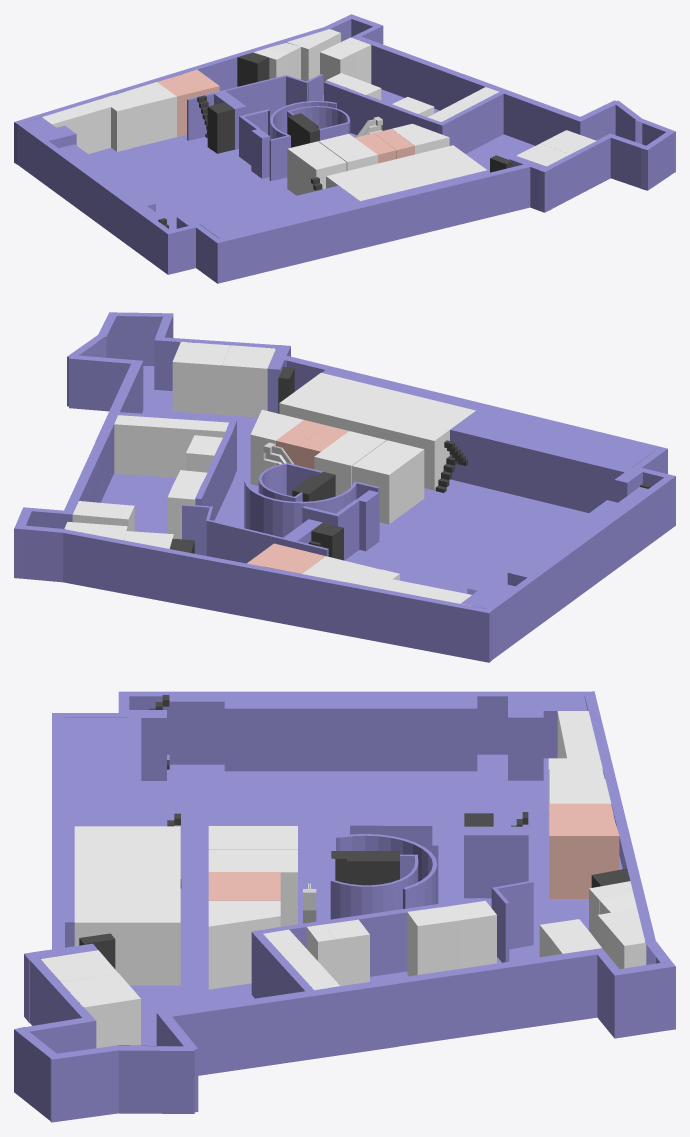
The picture shows the model from 3 angles, top to bottom: view 1: azimuth 30°, elevation 25°; view 2: azimuth 150°, elevation 25°; view 3: azimuth 270°, elevation 25°; orthographic projection. The views are drawn at different scales.
Visible parts, largest first — view 1: object, 第1開架閲覧室_9_3_1, 特別書庫_9_3_1, 個人閲覧室_9_3_1, グループ閲覧室1, コピー室_9_3_1, 図書課_9_3_1, 学習室_9_3_1, エレベーター_9_3_2, 研究室_9_3_1, 休憩室_9_3_1, ロッカー室_9_3_1 (+7 smaller); view 2: object, 第1開架閲覧室_9_3_1, 特別書庫_9_3_1, 学習室_9_3_1, 図書課_9_3_1, グループ閲覧室1, 館長室, 研究室_9_3_1, ロッカー室_9_3_1, 個人閲覧室_9_3_1, 女子トイレ_9_3_2, コピー室_9_3_1 (+4 smaller); view 3: object, 第1開架閲覧室_9_3_1, 特別書庫_9_3_1, 図書課_9_3_1, 学習室_9_3_1, ロッカー室_9_3_1, バリアフリートイレ_9_3_3, 研究室_9_3_1, エレベーター_9_3_3, グループ閲覧室1, 個人閲覧室_9_3_1, コピー室_9_3_1 (+7 smaller).
Boxes of the visible parts, x1,y1,x2,y2 form: object: (14, 14, 675, 283); 第1開架閲覧室_9_3_1: (116, 150, 296, 230); 特別書庫_9_3_1: (326, 145, 487, 201); 個人閲覧室_9_3_1: (42, 99, 111, 154); グループ閲覧室1: (287, 141, 346, 195); コピー室_9_3_1: (127, 82, 176, 144); 図書課_9_3_1: (326, 73, 466, 121); 学習室_9_3_1: (516, 130, 596, 166); エレベーター_9_3_2: (207, 102, 234, 153); 研究室_9_3_1: (318, 133, 377, 170); 休憩室_9_3_1: (101, 95, 131, 151); ロッカー室_9_3_1: (392, 123, 449, 154); object: (14, 312, 675, 662); 第1開架閲覧室_9_3_1: (345, 491, 571, 593); 特別書庫_9_3_1: (279, 373, 475, 490); 学習室_9_3_1: (172, 341, 275, 417); 図書課_9_3_1: (101, 419, 228, 539); グループ閲覧室1: (352, 440, 424, 524); 館長室: (114, 415, 178, 477); 研究室_9_3_1: (314, 431, 386, 495); ロッカー室_9_3_1: (250, 409, 303, 485); 個人閲覧室_9_3_1: (379, 579, 471, 605); 女子トイレ_9_3_2: (298, 425, 348, 469); コピー室_9_3_1: (302, 556, 365, 584); object: (14, 691, 675, 1122); 第1開架閲覧室_9_3_1: (184, 770, 477, 888); 特別書庫_9_3_1: (74, 826, 180, 985); 図書課_9_3_1: (263, 901, 496, 985); 学習室_9_3_1: (40, 950, 140, 1048); ロッカー室_9_3_1: (208, 900, 280, 989); バリアフリートイレ_9_3_3: (549, 826, 619, 898); 研究室_9_3_1: (208, 849, 297, 926); エレベーター_9_3_3: (331, 851, 399, 885); グループ閲覧室1: (208, 826, 297, 849); 個人閲覧室_9_3_1: (557, 711, 600, 758); コピー室_9_3_1: (549, 779, 611, 803).
Size of the model in its own units: 2.06 by 0.2327 by 1.56.
